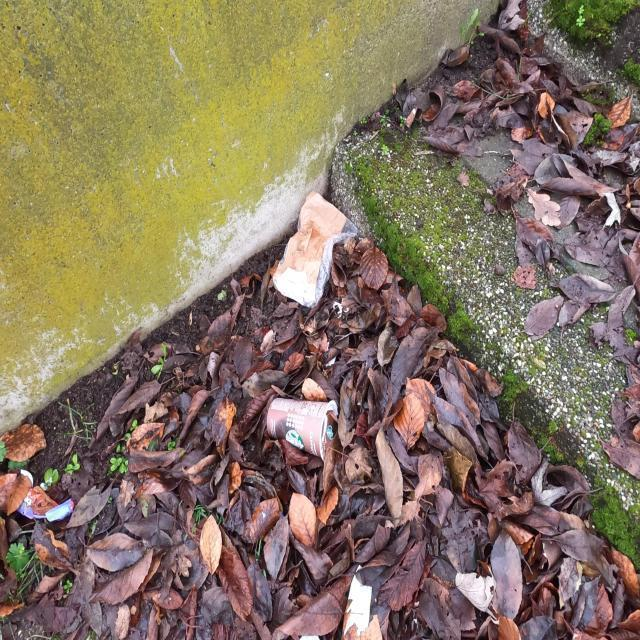Cup: (266, 396, 340, 463)
Paper: (270, 190, 359, 308), (341, 563, 372, 640)
Plastic: (15, 468, 74, 524)
